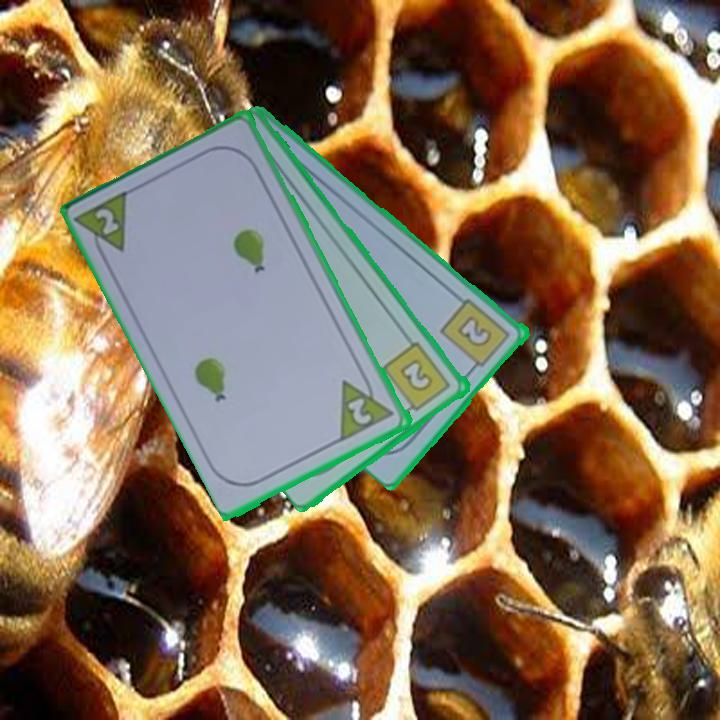2b: (437, 295, 514, 375), (380, 338, 454, 417)
2p: (73, 186, 134, 266), (344, 394, 375, 428)
